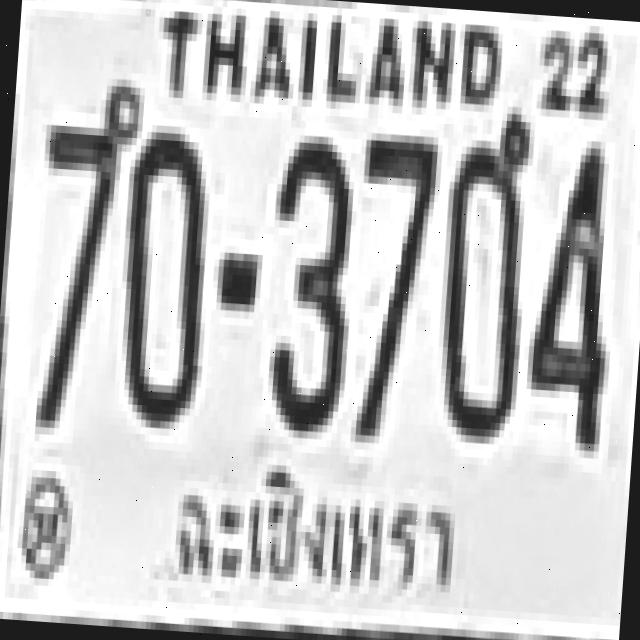0: (432, 116, 530, 438), (115, 123, 212, 423)
3: (260, 130, 357, 430)
4: (522, 138, 614, 444)
7: (26, 88, 130, 424), (344, 129, 436, 435), (347, 128, 436, 384), (351, 128, 436, 334)
Chachoengsao: (157, 438, 470, 618)
